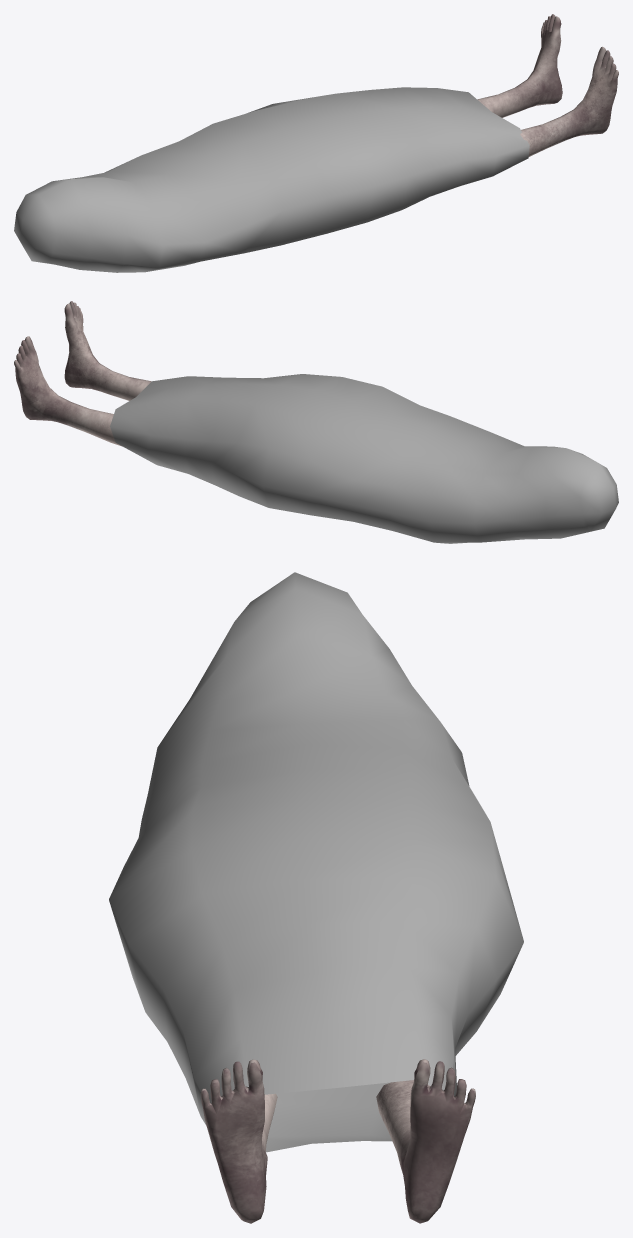
The model's file is corpsebag_LP.fbx.
3 views of the same model, one above another, from view 1: azimuth 30°, elevation 25°; view 2: azimuth 150°, elevation 25°; view 3: azimuth 270°, elevation 25° (orthographic). The views are drawn at different scales.
Parts seen in each view (by area): view 1: bodybag_LP1; view 2: bodybag_LP1; view 3: bodybag_LP1.
Boxes of the visible parts, x1,y1,x2,y2 form: bodybag_LP1: [14, 14, 618, 272]; bodybag_LP1: [14, 301, 618, 543]; bodybag_LP1: [109, 572, 523, 1223].
Bounding box in the file's own units: 1909 × 364 × 610.
